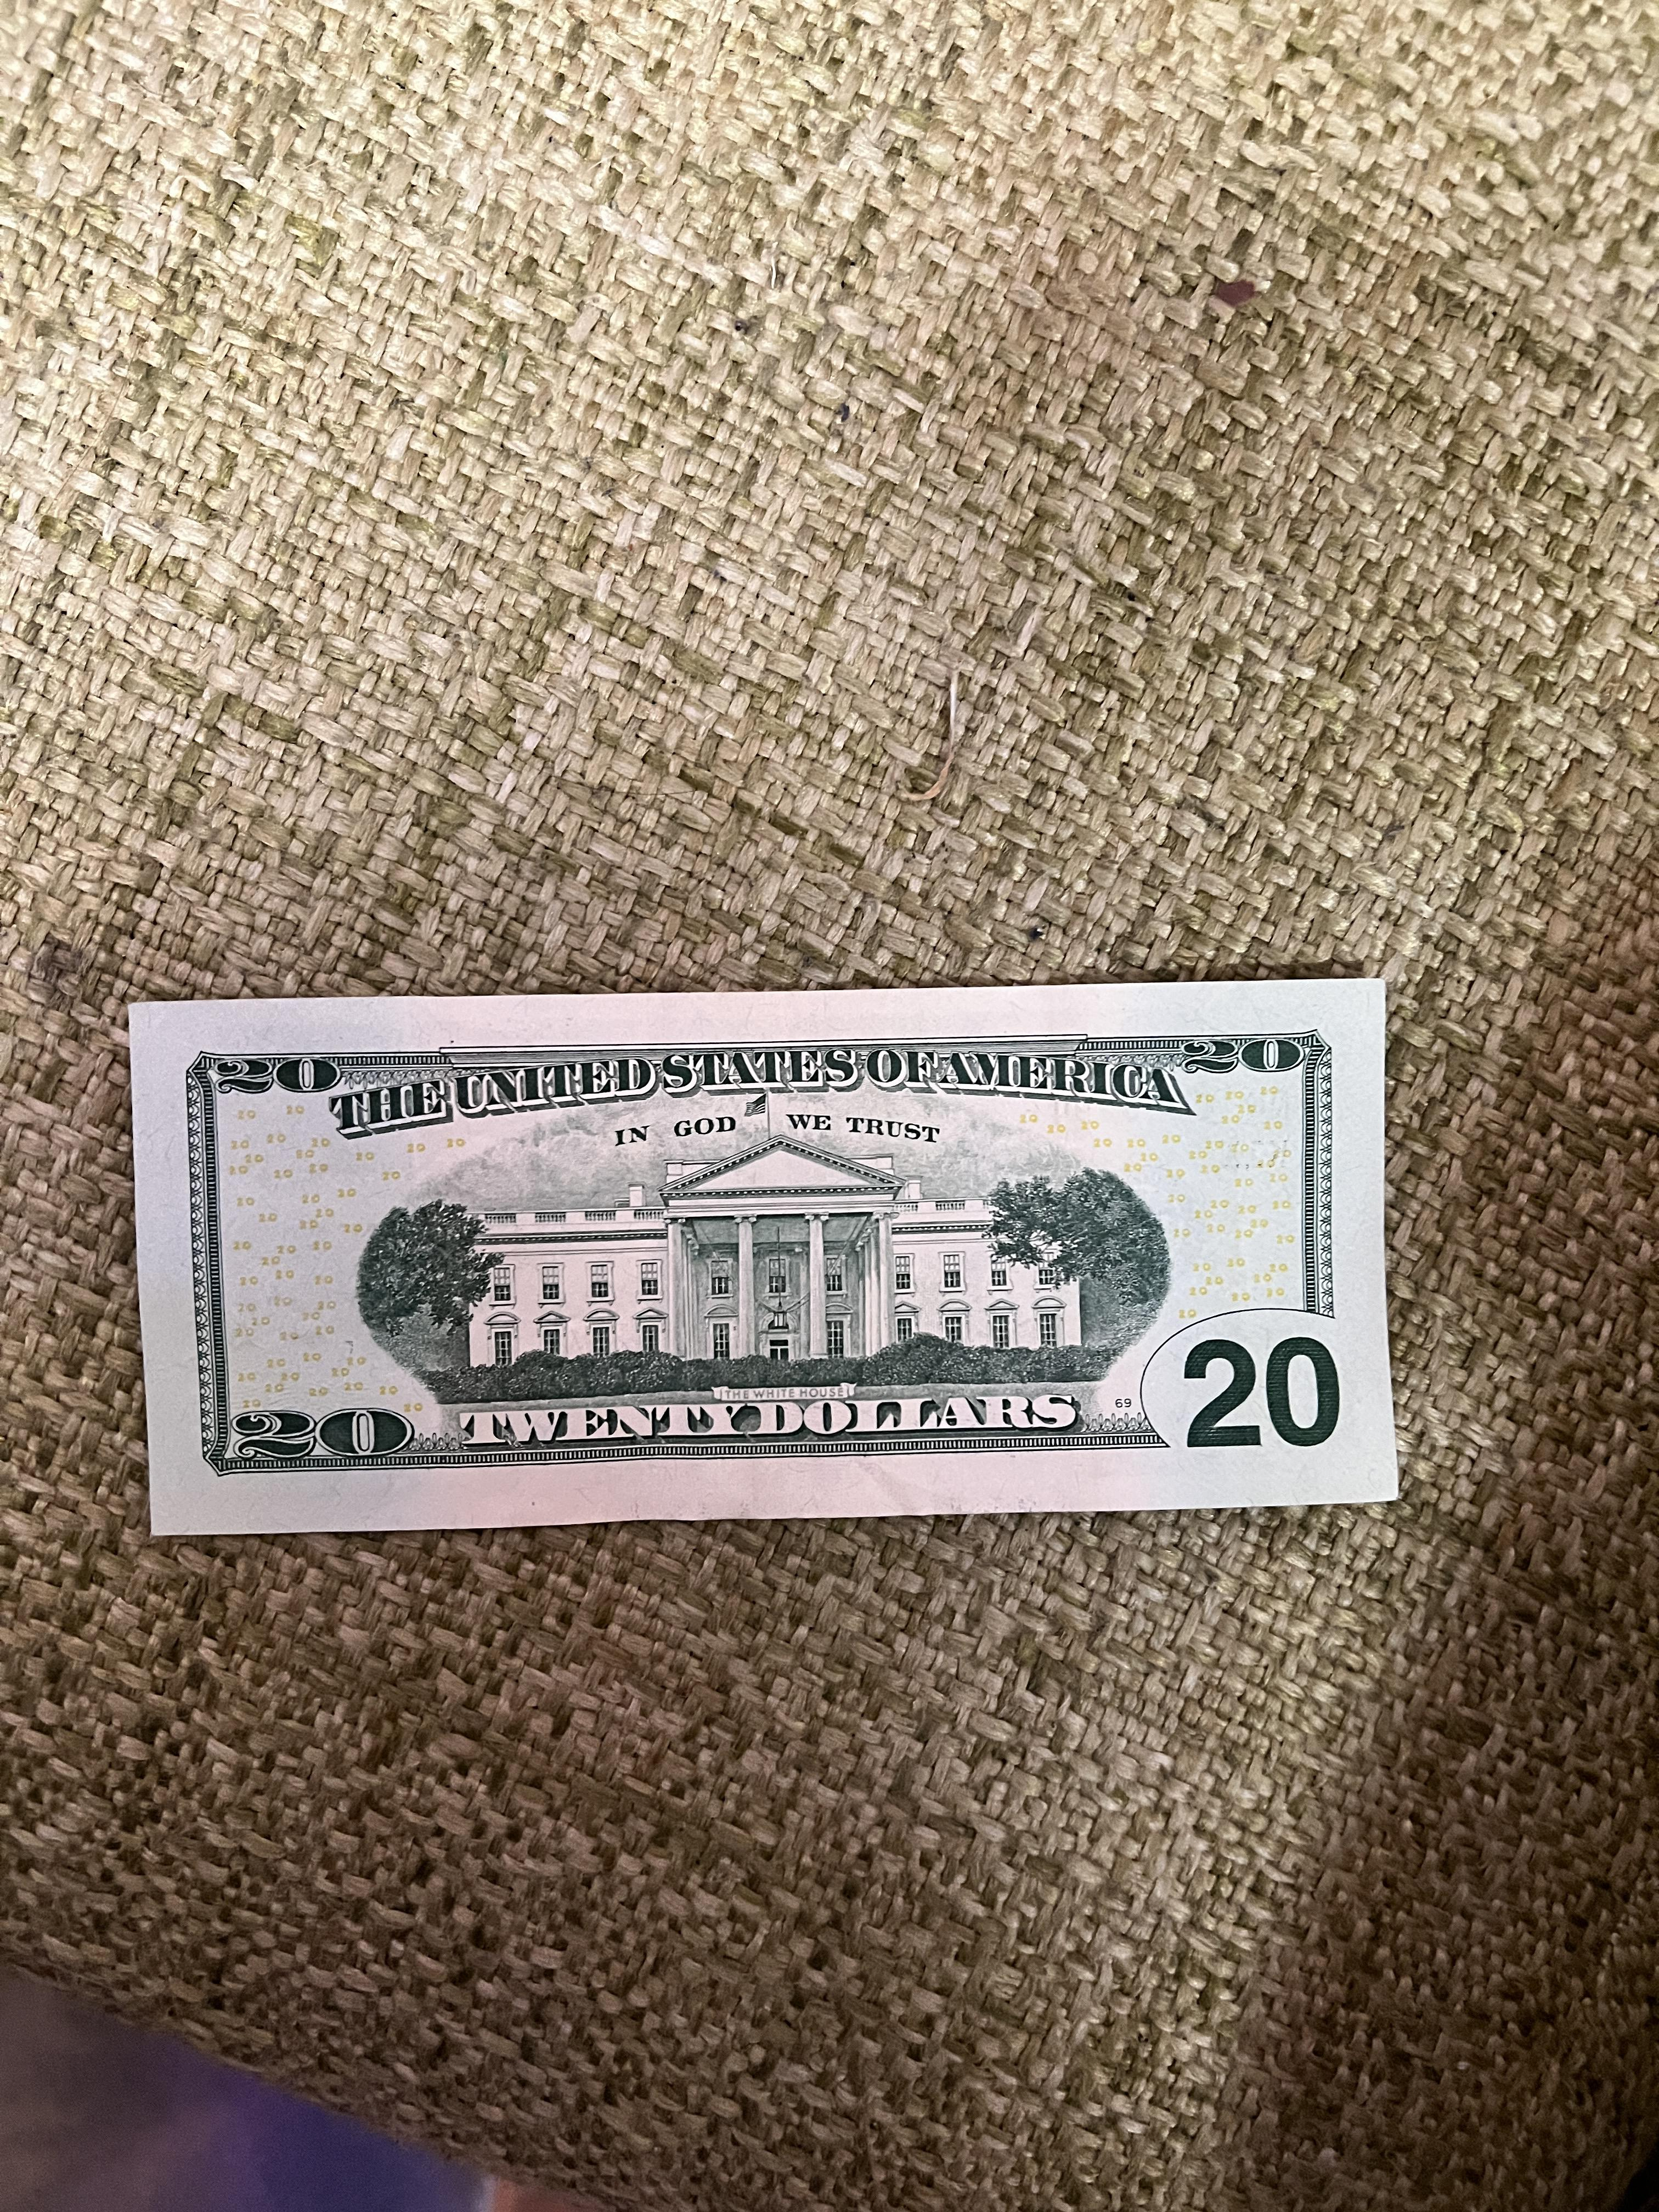TwentyBill: (110, 960, 1417, 1541)
